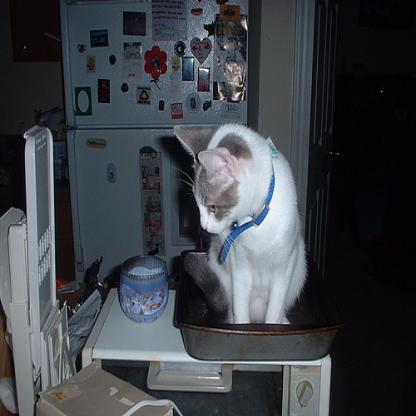cat: (173, 123, 308, 324)
